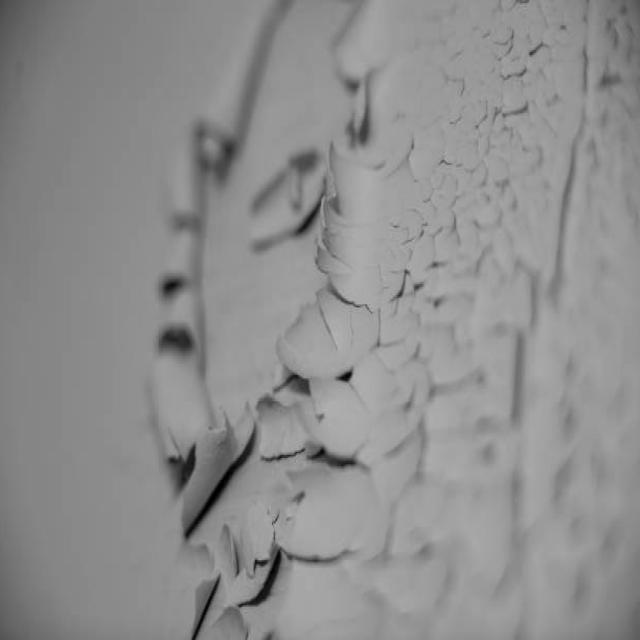peeling paint: (117, 0, 640, 640)
